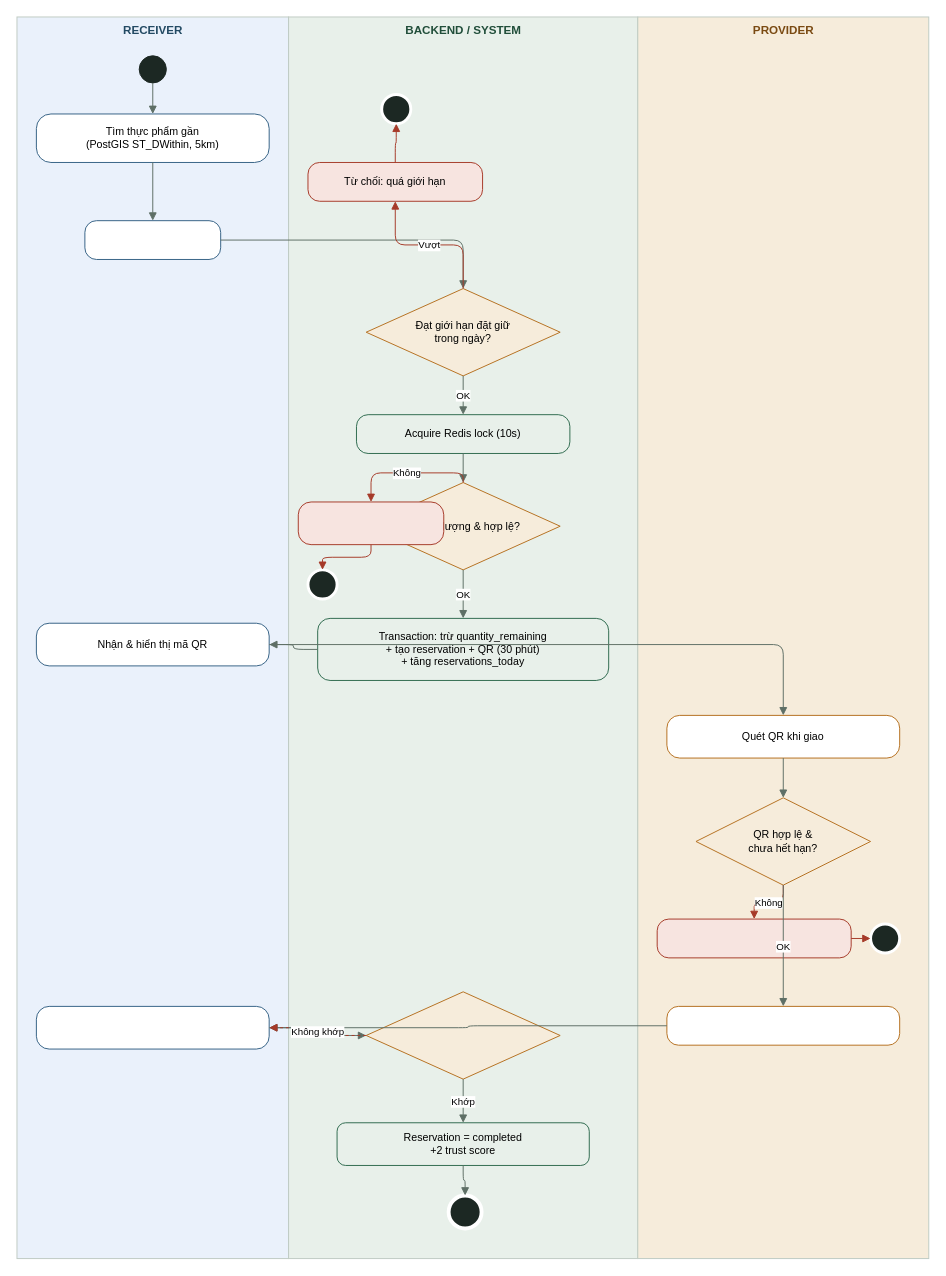
Some shapes in this 946 by 1276 pixel diagram are drawn without their labels. Here are the shapes that lost their labels. From the top down, the centre of each, then its label:
[152,239]: Bấm “Đặt giữ”
[370,523]: Báo lỗi & nhả lock
[753,938]: Từ chối / hết hạn
[152,1027]: Gửi ảnh selfie để xác minh
[462,1035]: Khớp khuôn mặt?
[783,1025]: Reservation = picked_up
